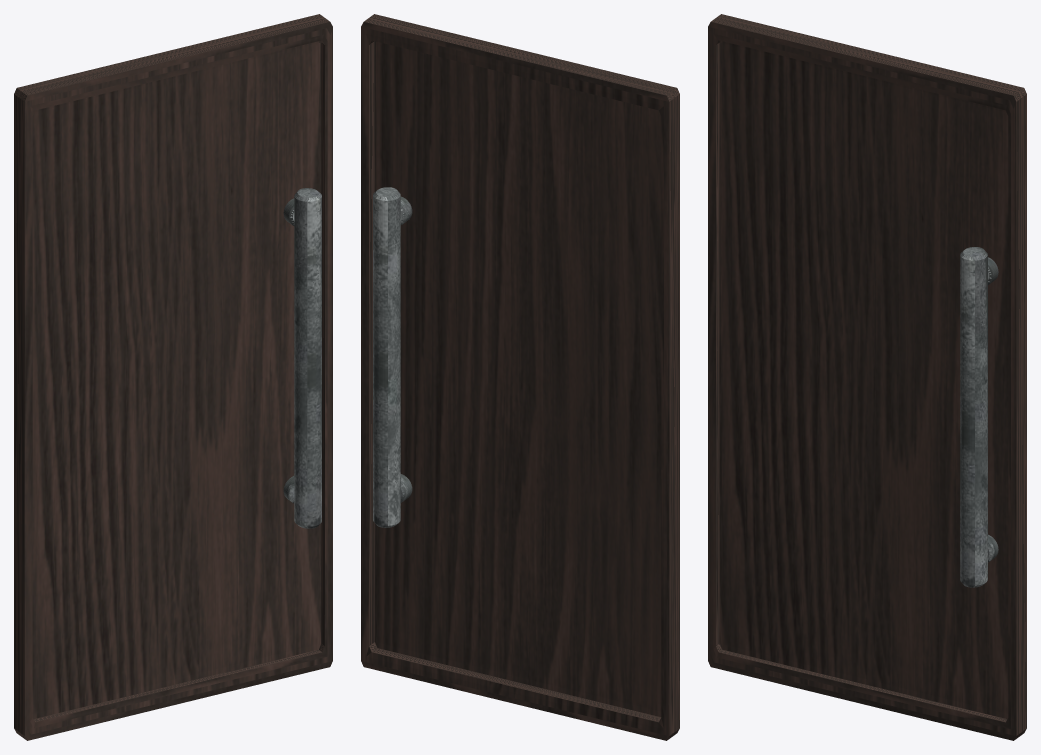
The model's file is ENTRANCE DOOR.glb.
The picture shows the model from 3 angles, left to right: view 1: azimuth 30°, elevation 25°; view 2: azimuth 150°, elevation 25°; view 3: azimuth 330°, elevation 25°; orthographic projection.
Visible parts, largest first — view 1: DOOR, HANDLE; view 2: DOOR, HANDLE; view 3: DOOR, HANDLE.
Part boxes in pixels (x1,y1,x2,y2): DOOR: (14, 14, 332, 740); HANDLE: (283, 188, 321, 528); DOOR: (361, 14, 679, 740); HANDLE: (373, 187, 412, 527); DOOR: (708, 14, 1026, 740); HANDLE: (960, 247, 998, 587).
Size of the model in its own units: 4.03 by 8.07 by 0.9291.
2 materials, 2 textured.
